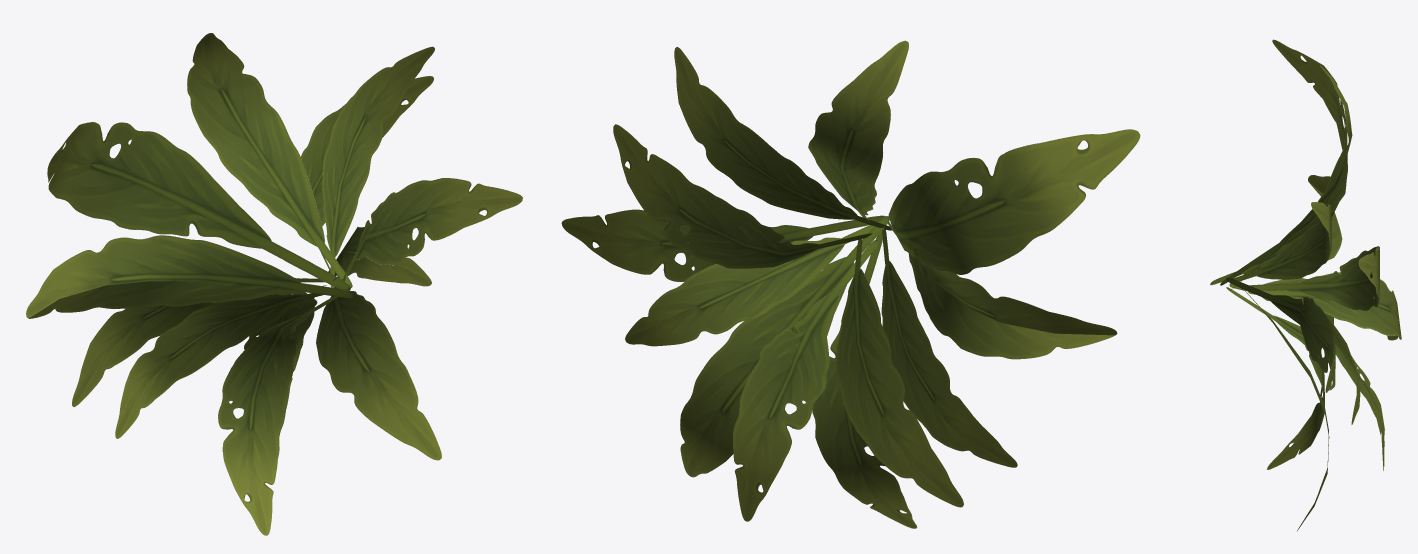
The model's file is Farn02.fbx.
3 views of the same model, side by side, from view 1: azimuth 30°, elevation 25°; view 2: azimuth 150°, elevation 25°; view 3: azimuth 270°, elevation 25° (orthographic). The views are drawn at different scales.
Parts seen in each view (by area): view 1: Farn02; view 2: Farn02; view 3: Farn02.
Boxes of the visible parts, <box> form: Farn02: <box>26,33,522,535</box>; Farn02: <box>561,40,1140,528</box>; Farn02: <box>1210,39,1401,530</box>.
Size of the model in its own units: 200 by 181 by 80.67.
1 material, 1 textured.
